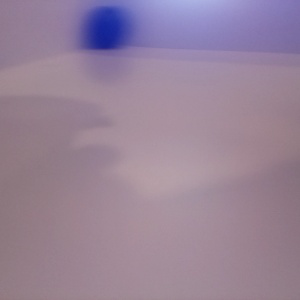dead_ball: (84, 8, 125, 50)
